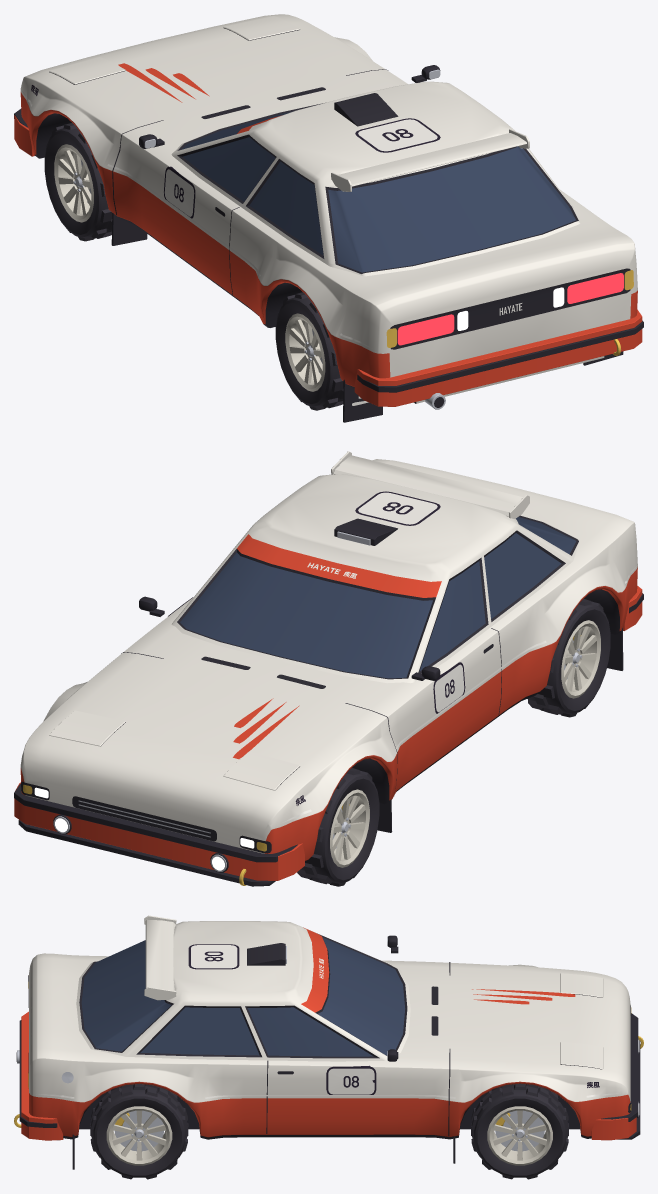
The model's file is hayate.glb.
3 renders of one model, top to bottom at view 1: azimuth 30°, elevation 25°; view 2: azimuth 150°, elevation 25°; view 3: azimuth 270°, elevation 25°, orthographic. The views are drawn at different scales.
Visible parts, largest first — view 1: Body, Wheel_RL, Wheel_FL, PopUp_L, PopUp_R; view 2: Body, Wheel_FL, Wheel_RL, PopUp_L, PopUp_R; view 3: Body, Wheel_RR, Wheel_FR, PopUp_R, PopUp_L.
Part boxes in pixels (x1,y1,x2,y2): Body: (14, 14, 643, 422); Wheel_RL: (275, 292, 343, 410); Wheel_FL: (44, 122, 112, 241); PopUp_L: (49, 57, 125, 84); PopUp_R: (223, 16, 300, 40); Body: (14, 451, 643, 886); Wheel_FL: (297, 768, 379, 886); Wheel_RL: (527, 599, 610, 717); PopUp_L: (223, 751, 300, 790); PopUp_R: (49, 710, 125, 746); Body: (14, 915, 643, 1169); Wheel_RR: (90, 1084, 188, 1179); Wheel_FR: (471, 1083, 568, 1179); PopUp_R: (560, 1042, 603, 1069); PopUp_L: (560, 973, 603, 997).
Size of the model in its own units: 1.89 by 1.29 by 4.22.
